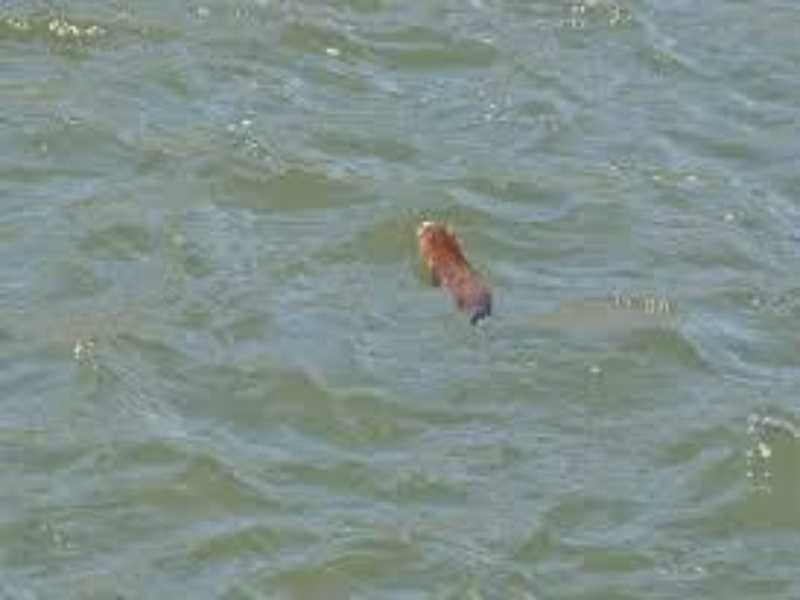minkish: (414, 218, 494, 323)
